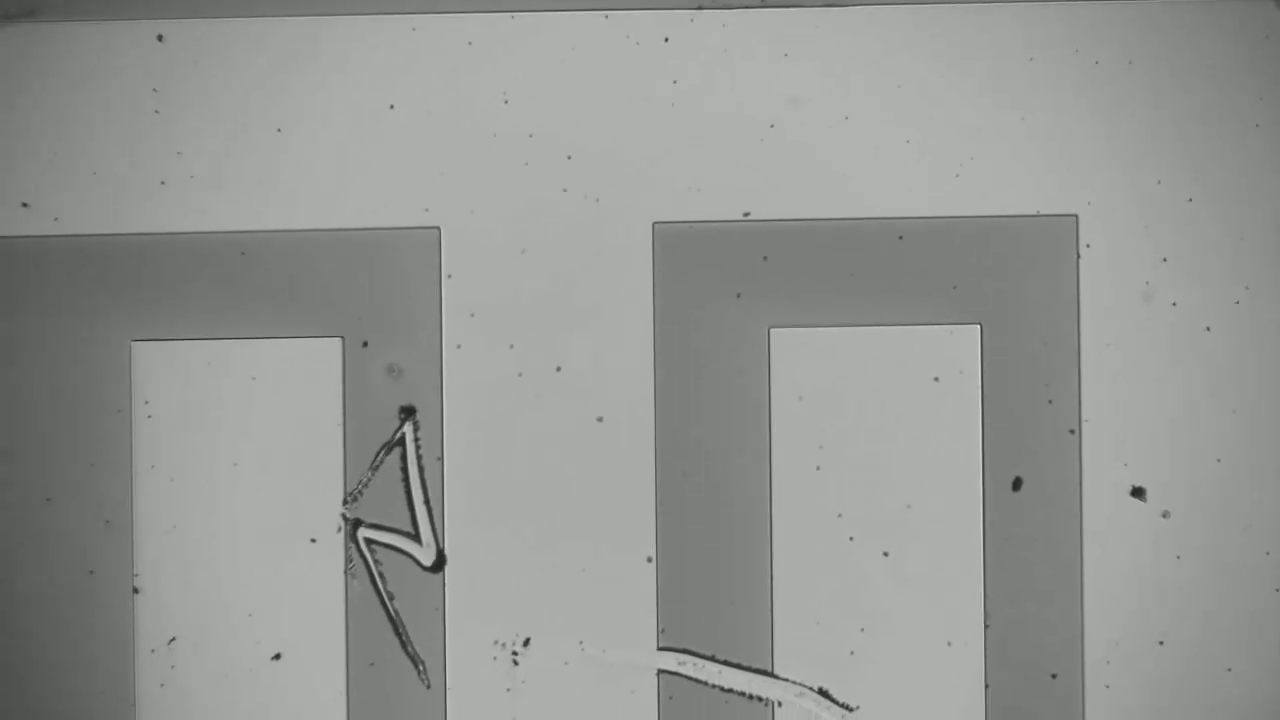Short_circuit: (634, 619, 797, 716), (314, 512, 461, 575)
